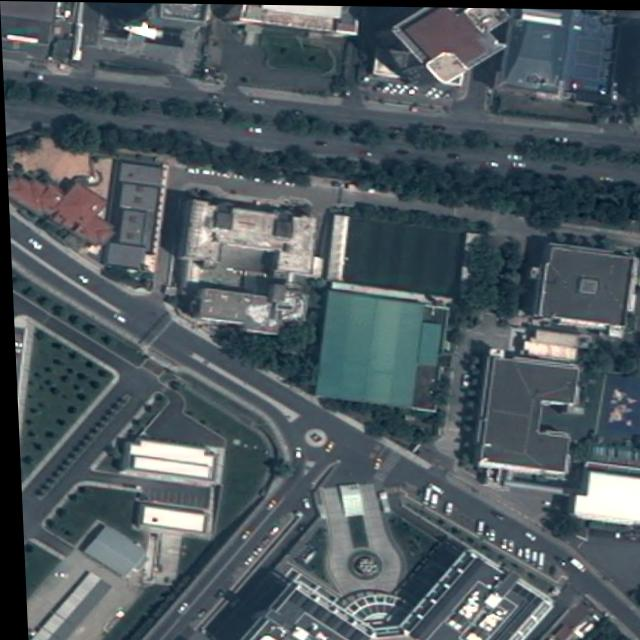Batiment: (495, 6, 614, 119), (475, 356, 576, 471), (183, 198, 315, 275), (392, 5, 507, 80), (536, 243, 631, 322), (7, 178, 111, 244), (196, 283, 305, 332), (217, 3, 357, 34), (571, 470, 640, 523), (593, 372, 640, 434), (125, 439, 210, 465), (137, 504, 201, 531), (129, 456, 207, 477), (148, 2, 209, 26), (102, 241, 143, 266), (118, 183, 156, 209), (118, 162, 161, 184), (119, 210, 144, 242)
